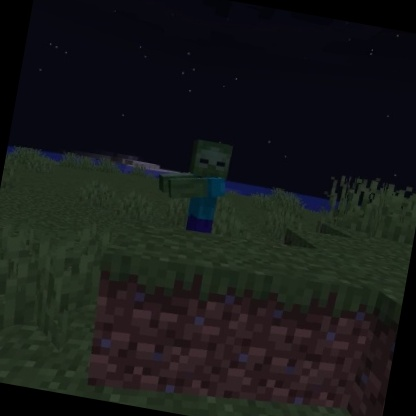zombie: (148, 131, 242, 237)
